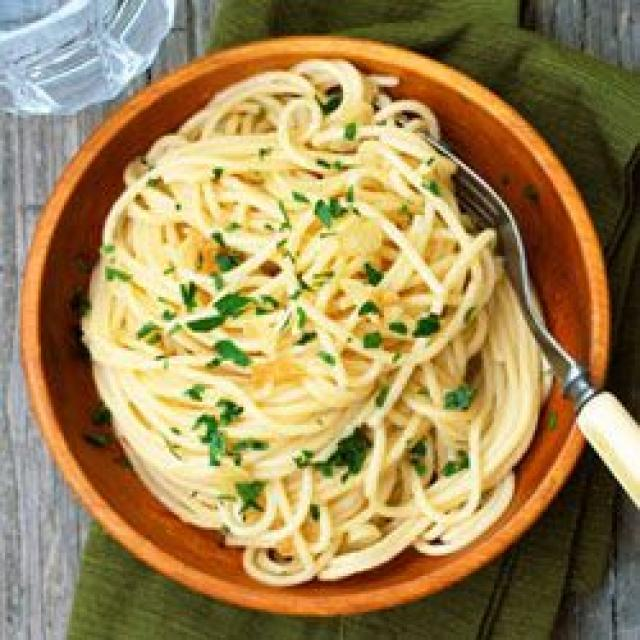Oil pasta: (102, 72, 534, 584)
